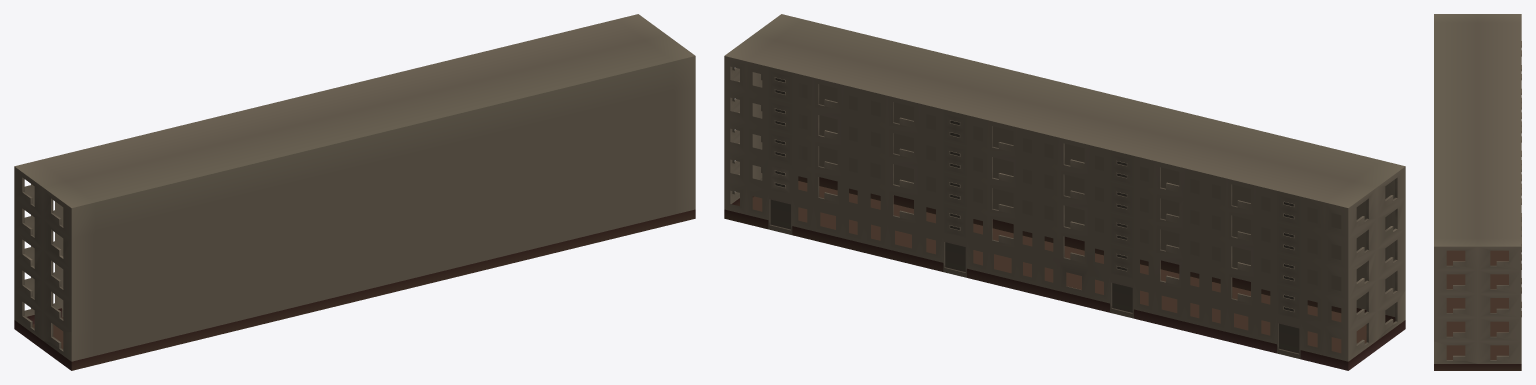
The model's file is Khrushchyovka.fbx.
3 views of the same model, side by side, from view 1: azimuth 30°, elevation 25°; view 2: azimuth 150°, elevation 25°; view 3: azimuth 270°, elevation 25° (orthographic). The views are drawn at different scales.
Visible parts, largest first — view 1: Star Fasad; view 2: Star Fasad; view 3: Star Fasad.
Part boxes in pixels (box(x1,y1,x2,y2)): Star Fasad: box(14, 14, 695, 370); Star Fasad: box(724, 14, 1405, 370); Star Fasad: box(1434, 14, 1521, 370).
Size of the model in its own units: 15387 by 3834 by 2455.
